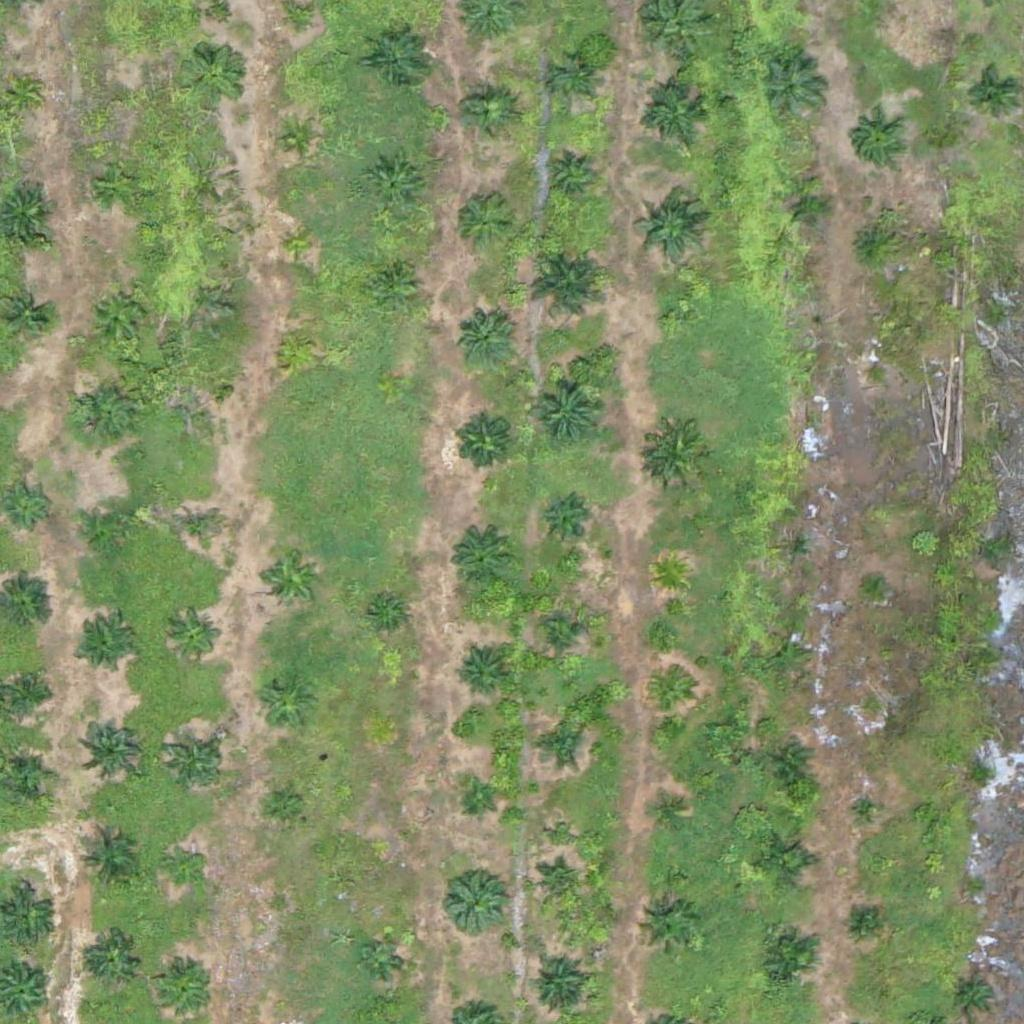Kelapa_Sawit: (525, 241, 612, 329), (633, 192, 708, 268), (528, 372, 603, 447), (442, 868, 505, 931), (253, 672, 316, 735), (451, 190, 514, 253), (454, 307, 517, 370), (762, 56, 825, 119), (645, 424, 708, 487), (70, 381, 133, 444), (369, 26, 432, 89), (260, 549, 323, 612), (365, 156, 428, 219), (75, 617, 137, 680), (76, 830, 138, 893), (163, 731, 225, 794), (79, 714, 141, 777), (448, 527, 510, 590), (452, 410, 514, 473), (645, 84, 707, 147), (526, 952, 588, 1015), (636, 896, 698, 959), (756, 929, 818, 992), (88, 284, 150, 347), (755, 830, 817, 893), (184, 44, 246, 107), (169, 610, 219, 661), (454, 648, 504, 699), (965, 69, 1015, 120), (531, 718, 581, 769), (783, 182, 833, 233), (845, 217, 895, 268), (173, 504, 223, 555), (85, 502, 135, 553), (3, 479, 53, 530), (89, 933, 139, 983), (159, 965, 209, 1015), (463, 89, 513, 139), (535, 498, 585, 548), (850, 115, 900, 165), (368, 257, 418, 307), (951, 970, 1001, 1020), (532, 861, 582, 911), (536, 612, 586, 662), (94, 160, 144, 210), (1, 668, 51, 718), (3, 752, 53, 802), (544, 150, 593, 201), (651, 555, 689, 593), (849, 792, 887, 830), (773, 744, 811, 782), (653, 677, 691, 715), (652, 797, 690, 835), (769, 635, 807, 673), (281, 1, 319, 39), (279, 120, 317, 158), (281, 227, 319, 265), (277, 327, 315, 365), (3, 74, 41, 112), (368, 598, 406, 636), (164, 850, 202, 888), (554, 59, 591, 97), (778, 529, 815, 567), (459, 781, 496, 819), (101, 81, 138, 119), (184, 379, 221, 417), (267, 787, 304, 824), (362, 937, 399, 974), (851, 908, 876, 934), (863, 569, 888, 594), (860, 360, 885, 385), (661, 307, 686, 332)
